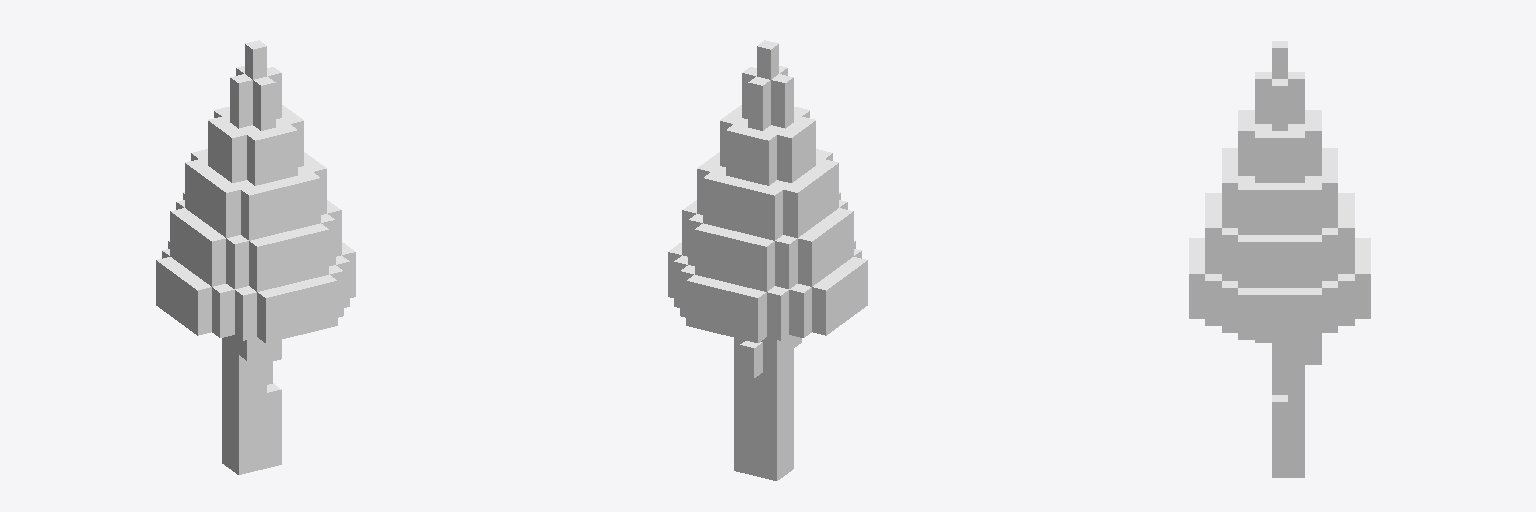
File: Tree3-0.obj
3 renders of one model, left to right at view 1: azimuth 30°, elevation 25°; view 2: azimuth 150°, elevation 25°; view 3: azimuth 270°, elevation 25°, orthographic.
Visible parts, largest first — view 1: object 1; view 2: object 1; view 3: object 1.
Boxes of the visible parts, <box> form: object 1: <box>156,40,355,474</box>; object 1: <box>668,40,867,480</box>; object 1: <box>1189,41,1370,477</box>.
Size of the model in its own units: 1.1 by 2.8 by 1.1.